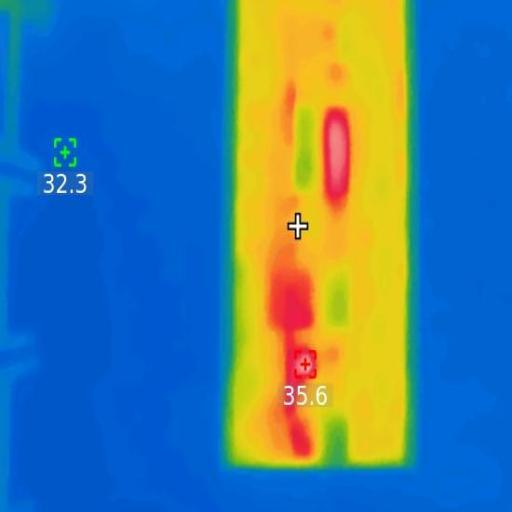hotspot: (322, 115, 356, 223), (267, 265, 317, 335), (284, 402, 314, 458), (280, 340, 320, 379)
